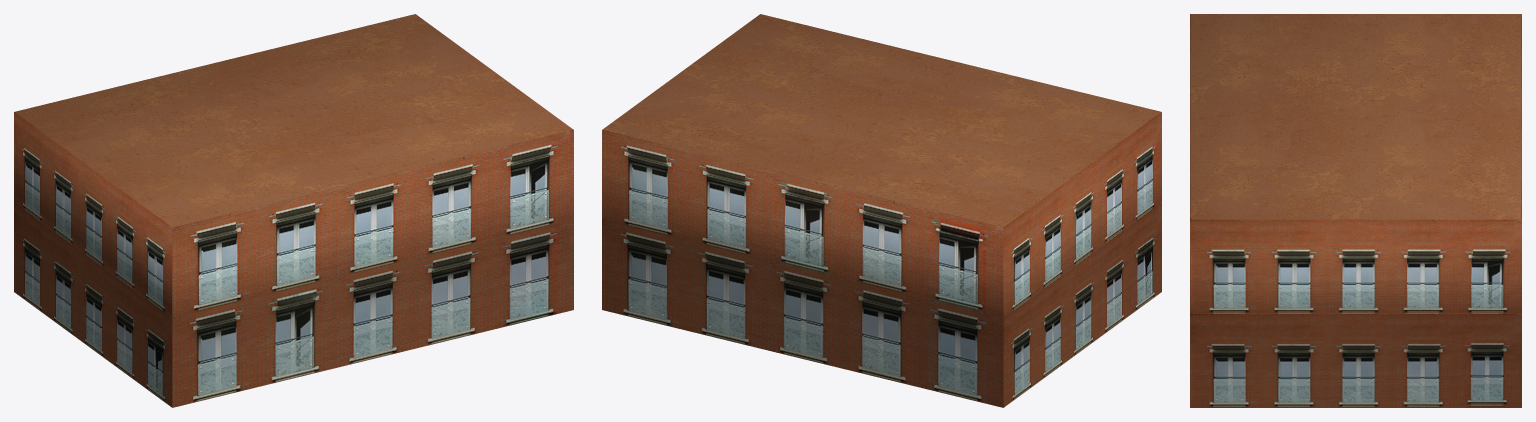
The model's file is SurroundingEnvironment_BuildingStackable3.fbx.
3 views of the same model, side by side, from view 1: azimuth 30°, elevation 25°; view 2: azimuth 150°, elevation 25°; view 3: azimuth 270°, elevation 25° (orthographic). The views are drawn at different scales.
Visible parts, largest first — view 1: LowPolyBuilding3; view 2: LowPolyBuilding3; view 3: LowPolyBuilding3.
Part boxes in pixels (<box>): LowPolyBuilding3: <box>14,14,573,407</box>; LowPolyBuilding3: <box>602,14,1161,407</box>; LowPolyBuilding3: <box>1190,14,1521,407</box>.
Size of the model in its own units: 1127 by 483 by 770.
